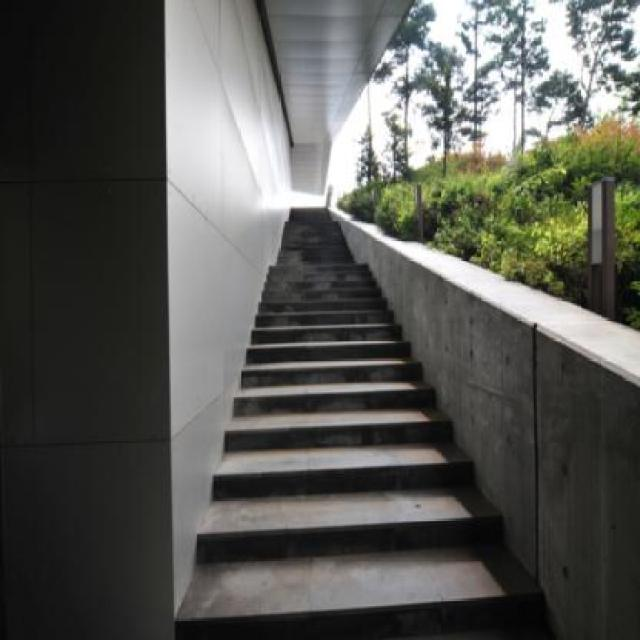stair: (172, 206, 558, 639)
